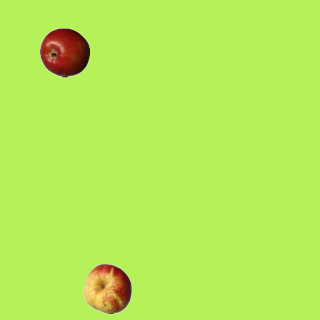Apple Braeburn: (39, 27, 89, 77)
Apple Red Yellow 1: (82, 263, 132, 313)
